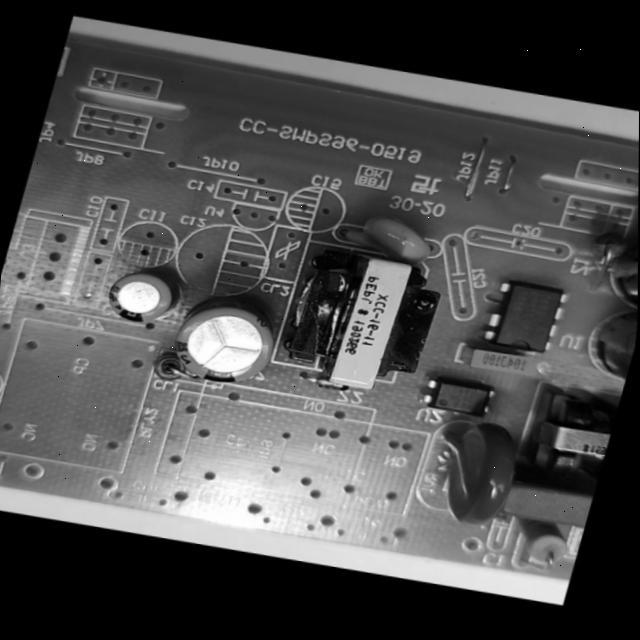Cap1: (157, 290, 288, 397)
Cap2: (97, 260, 184, 334)
Cap3: (574, 295, 638, 401)
Cap4: (593, 209, 638, 311)
MOSFET: (482, 274, 572, 362)
Mov: (411, 405, 542, 542)
Resistor: (502, 511, 583, 575)
Transformer: (266, 236, 453, 408), (510, 377, 622, 491)
